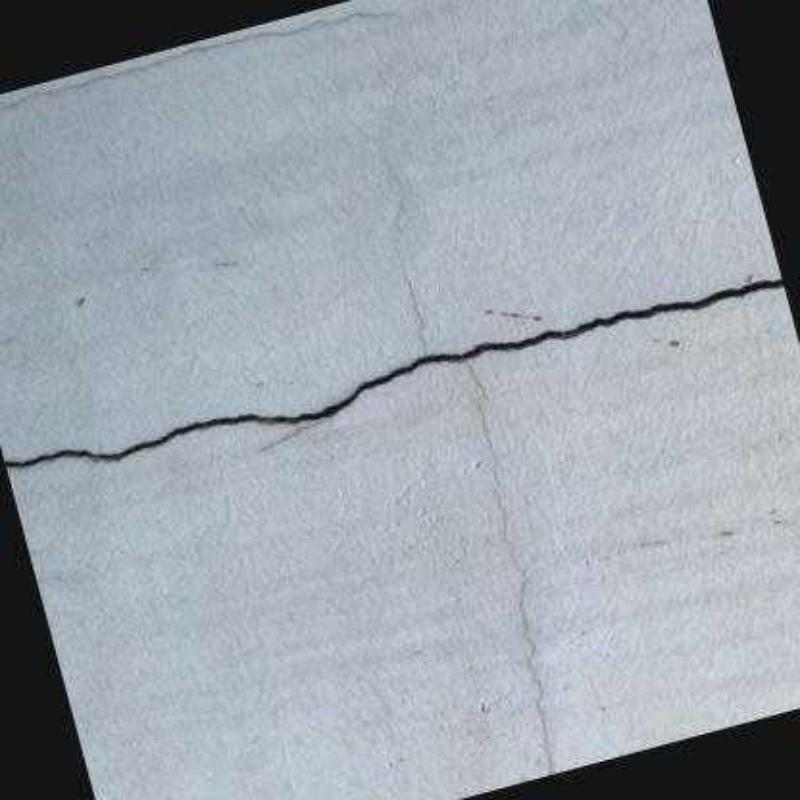crack: (2, 276, 784, 467)
